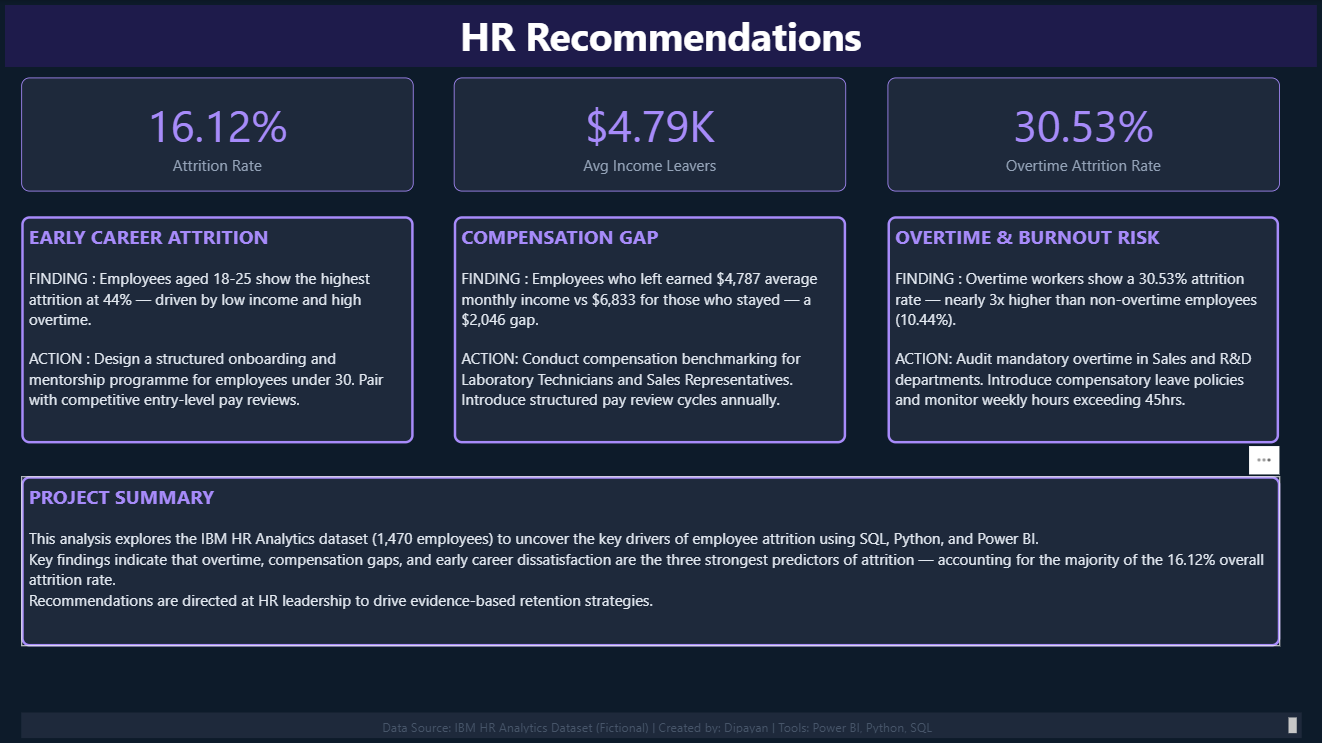

Layout of this report page (visuals, bound fields, positions):
{"tool":"powerbi","page":{"name":"HR Recommendations","canvas":[1280,720],"ordinal":3},"visuals":[{"type":"textbox","box":[20.6,209.4,380.1,220.3],"z":0},{"type":"textbox","box":[440,210,380.1,220],"z":1000},{"type":"textbox","box":[859.5,209.4,378.9,220.3],"z":2000},{"type":"textbox","box":[5,5,1270,60],"z":3000},{"type":"textbox","box":[20,690,1240,25],"z":4000},{"type":"card","fields":{"Values":["_Measures.Attrition Rate"]},"box":[20,75,380,110],"z":5000},{"type":"card","fields":{"Values":["_Measures.Avg Income Leavers"]},"box":[440,75,380,110.2],"z":6000},{"type":"card","fields":{"Values":["_Measures.Overtime Attrition Rate"]},"box":[860,75,380,110.2],"z":7000},{"type":"textbox","box":[20.6,461.2,1219,164.6],"z":7001}]}

Visuals, with their boxes in screenshot pixels (x1, y1, x2, y2), scaled from the page's 1280x720 canvas onto the 1322x743 screenshot:
textbox: Rect(21, 216, 414, 443)
textbox: Rect(454, 217, 847, 444)
textbox: Rect(888, 216, 1279, 443)
textbox: Rect(5, 5, 1317, 67)
textbox: Rect(21, 712, 1301, 738)
card - _Measures.Attrition Rate: Rect(21, 77, 413, 191)
card - _Measures.Avg Income Leavers: Rect(454, 77, 847, 191)
card - _Measures.Overtime Attrition Rate: Rect(888, 77, 1281, 191)
textbox: Rect(21, 476, 1280, 646)
